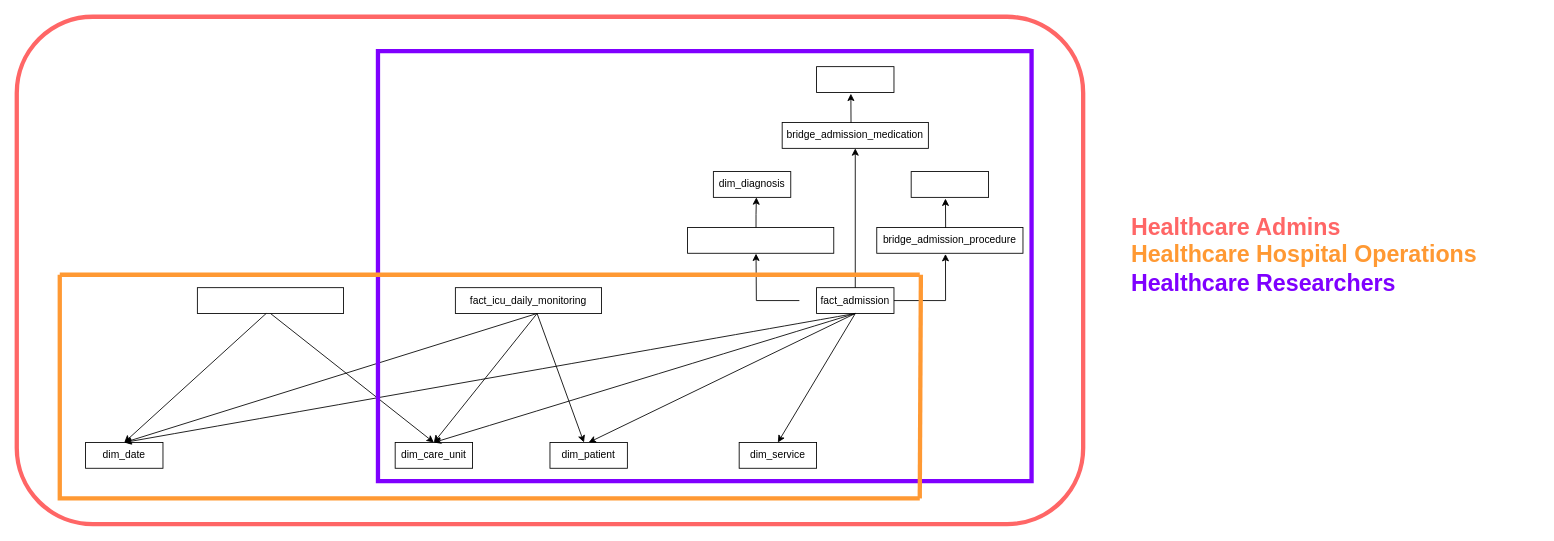
The diagram is 1554 pixels wide and 541 high, and some of its shapes have lost their labels. The shapes that lost their labels are listed below. From the top down, each one's centre as x and y in pixels, then its label:
At (x=855, y=79): "dim_medication".
At (x=949, y=184): "dim_procedure".
At (x=760, y=240): "bridge_admission_diagnosis".
At (x=270, y=300): "fact_careunit_daily_activity".
